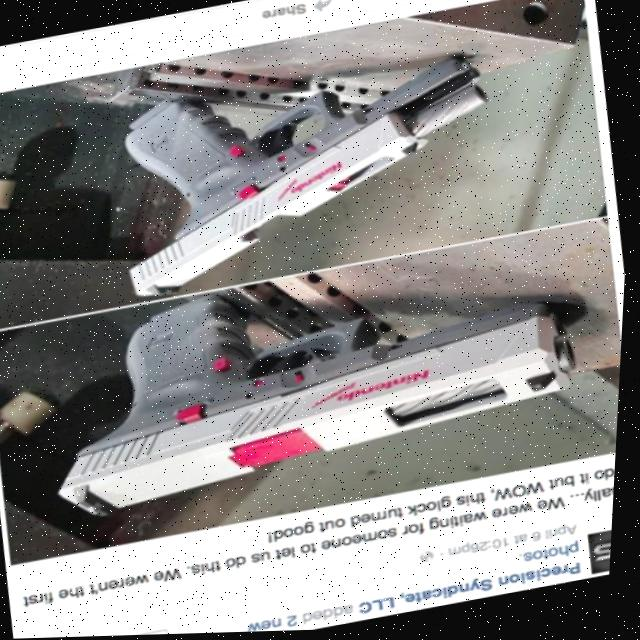pistol: (32, 228, 603, 528), (101, 37, 518, 306)
